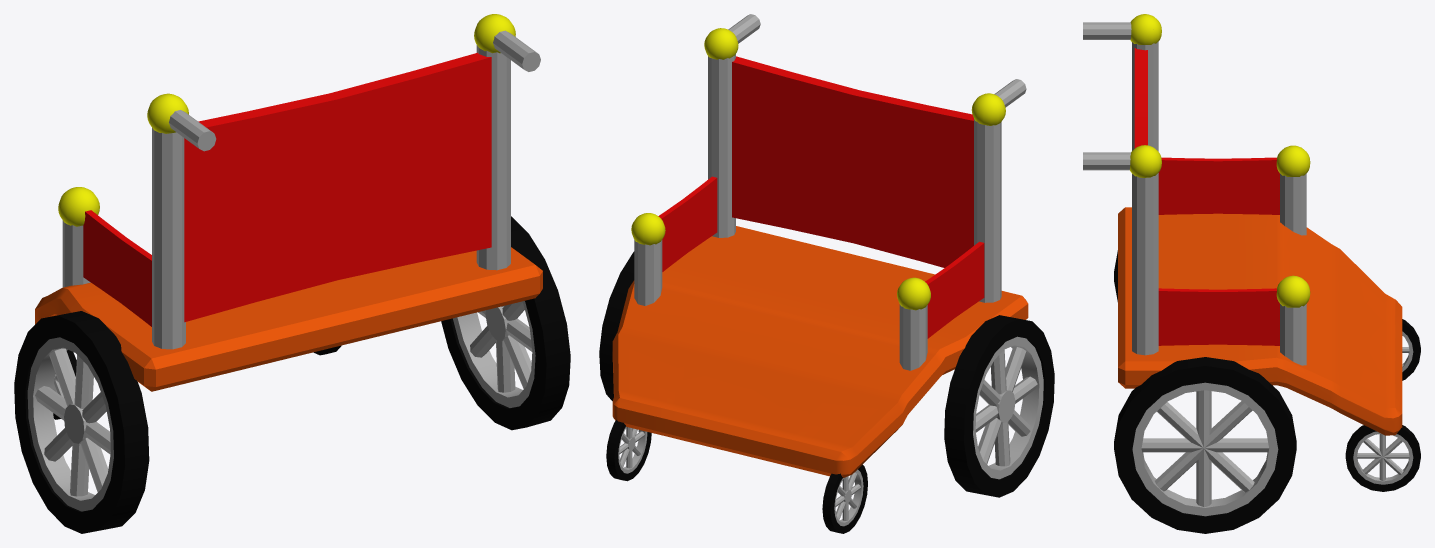
File: cadeira de rodas.fbx
3 views of the same model, side by side, from view 1: azimuth 30°, elevation 25°; view 2: azimuth 150°, elevation 25°; view 3: azimuth 270°, elevation 25° (orthographic). The views are drawn at different scales.
Visible parts, largest first — view 1: pCube55; view 2: pCube55; view 3: pCube55.
Boxes of the visible parts, x1,y1,x2,y2 form: pCube55: (14,14,570,533); pCube55: (599,14,1054,533); pCube55: (1083,14,1420,533).
Size of the model in its own units: 34.81 by 27.27 by 32.4.
